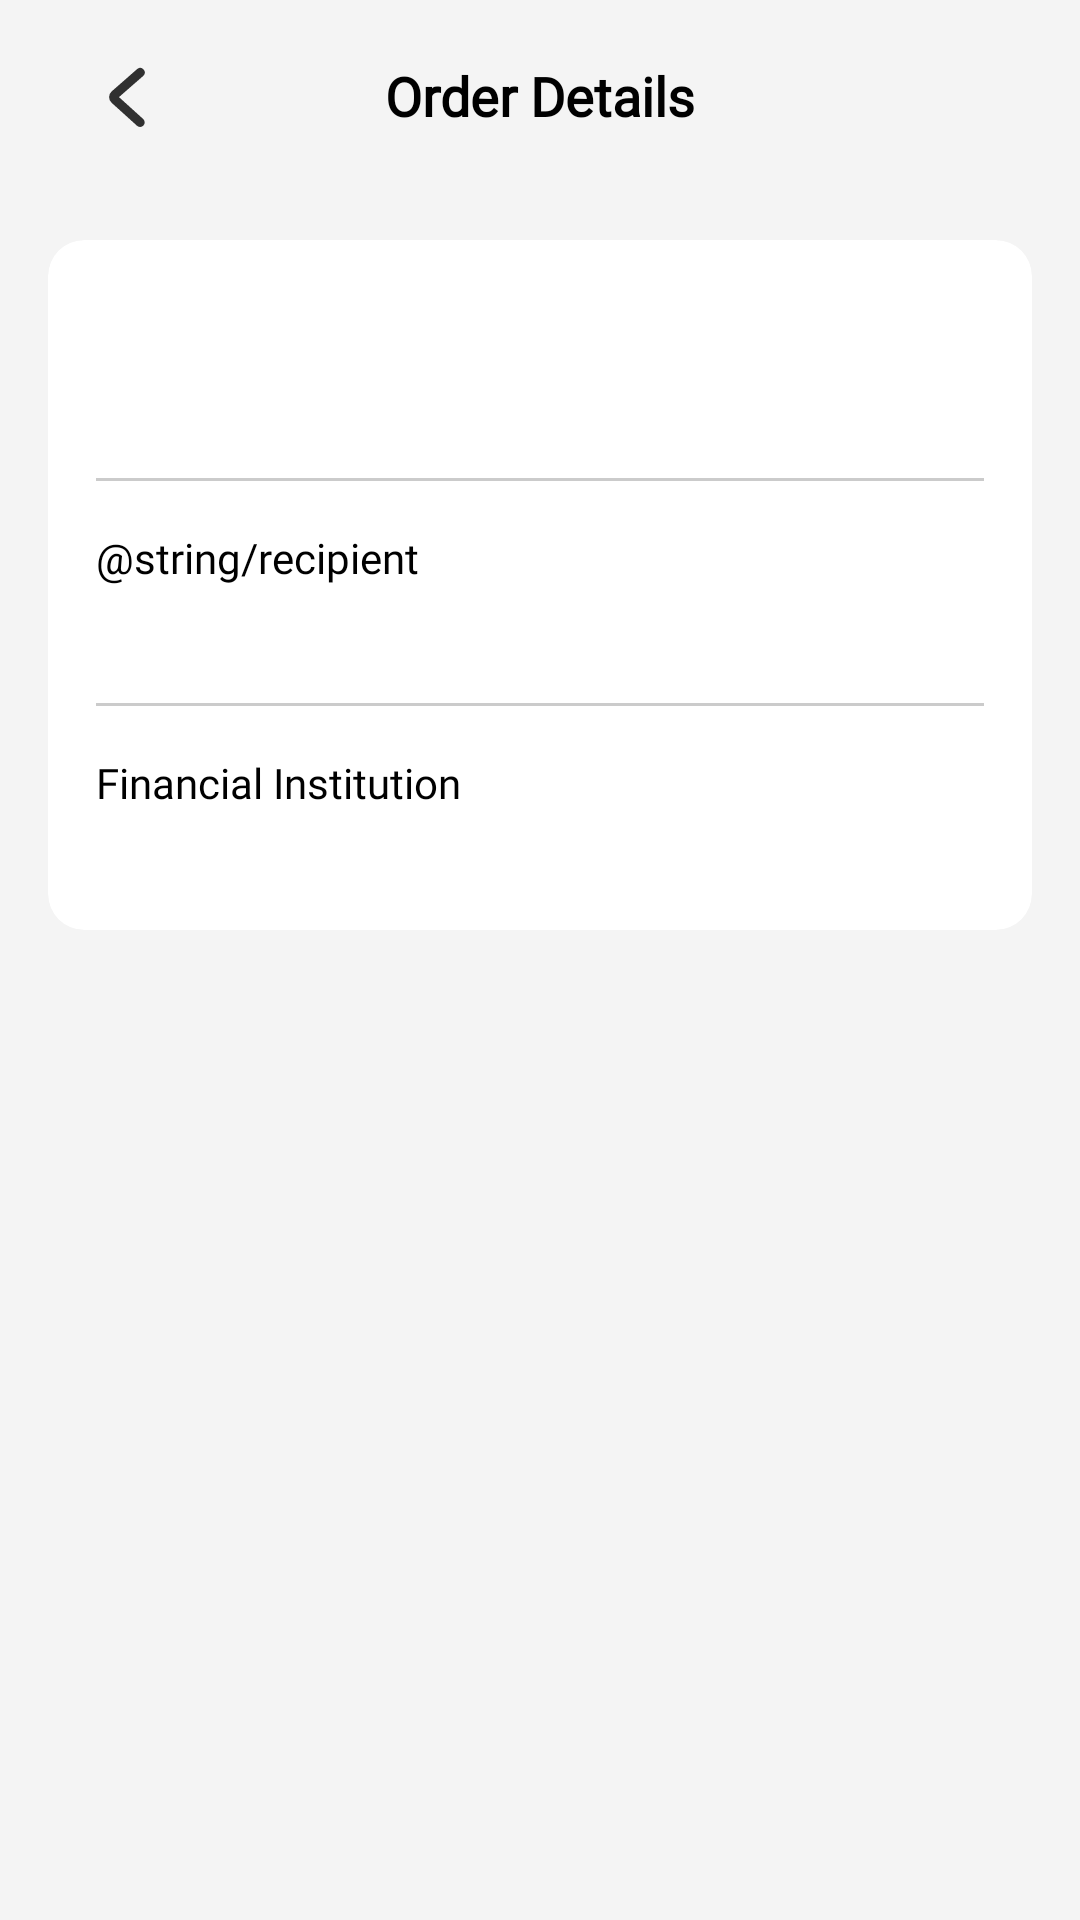

Named icons in this screenshot (1080x1920) and their bounding boxes, (x1, y1, x2, y2):
Back Button: (109, 67, 145, 127)
